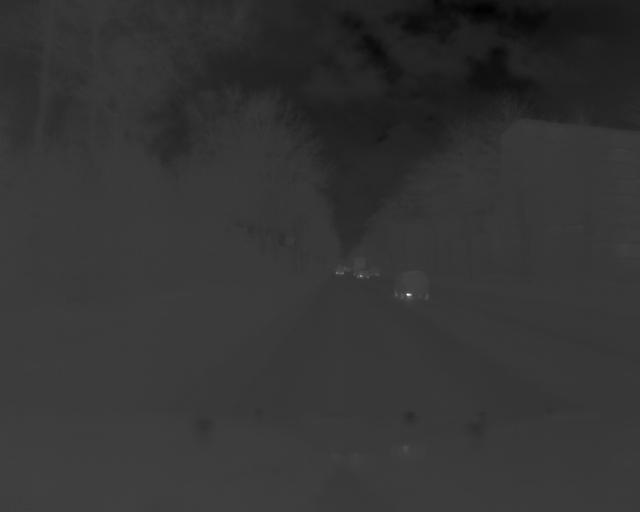car: (392, 268, 434, 304), (333, 260, 347, 276), (354, 267, 370, 281)
